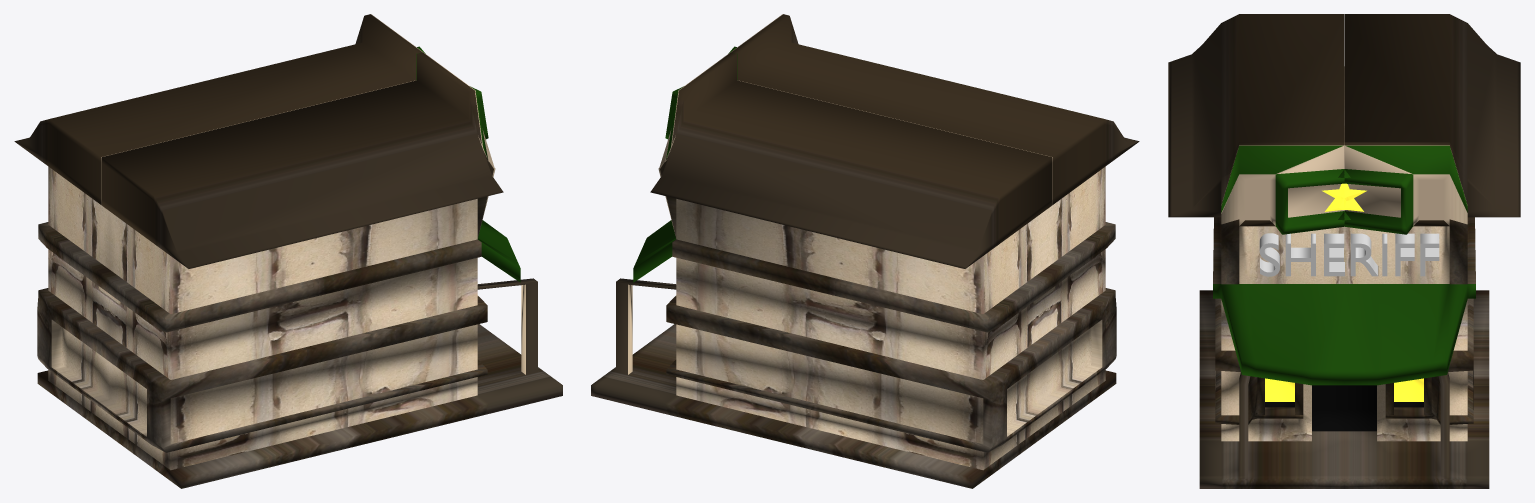
The model's file is Sheriff.glb.
The picture shows the model from 3 angles, left to right: view 1: azimuth 30°, elevation 25°; view 2: azimuth 150°, elevation 25°; view 3: azimuth 270°, elevation 25°; orthographic projection.
Parts seen in each view (by area): view 1: Cube.004; view 2: Cube.004; view 3: Cube.004, Text.001, Icosphere.
Boxes of the visible parts, x1,y1,x2,y2 form: Cube.004: (14, 14, 562, 488); Cube.004: (591, 14, 1139, 488); Cube.004: (1168, 14, 1520, 488); Text.001: (1259, 233, 1439, 276); Icosphere: (1322, 183, 1366, 211).
Size of the model in its own units: 8.66 by 6.49 by 6.68.
Materials: 5 (2 with a texture image).
